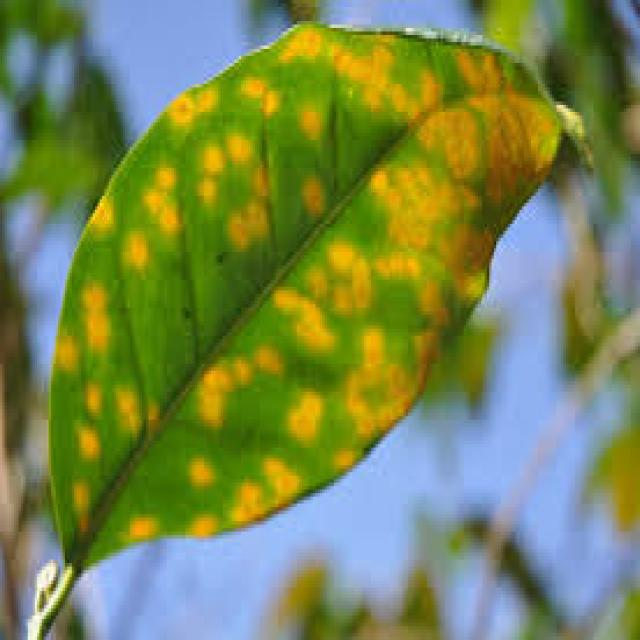leaf_rust: (37, 28, 561, 633)
